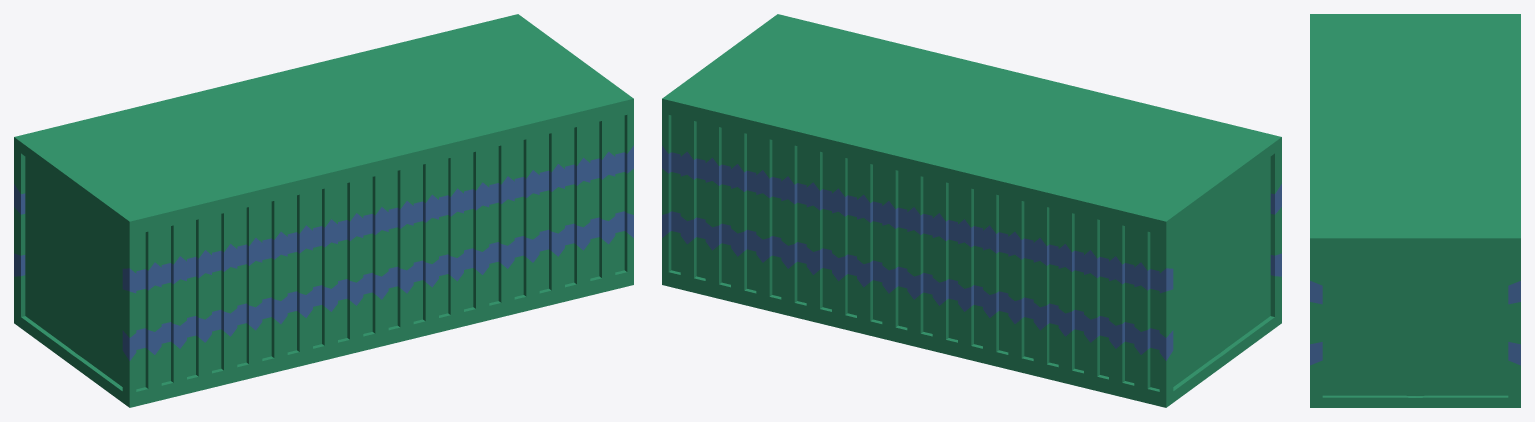
File: LCargoModel07.fbx
The picture shows the model from 3 angles, left to right: view 1: azimuth 30°, elevation 25°; view 2: azimuth 150°, elevation 25°; view 3: azimuth 270°, elevation 25°; orthographic projection. The views are drawn at different scales.
Parts seen in each view (by area): view 1: LCargoModel07; view 2: LCargoModel07; view 3: LCargoModel07.
Part boxes in pixels (x1,y1,x2,y2): LCargoModel07: (14,14,633,407); LCargoModel07: (662,14,1281,407); LCargoModel07: (1310,14,1520,407).
Size of the model in its own units: 723 by 255 by 288.
